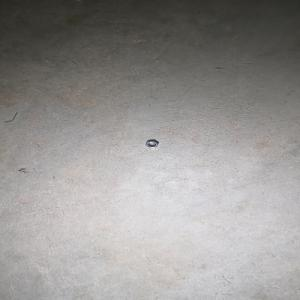Nut: (145, 140, 159, 149)
